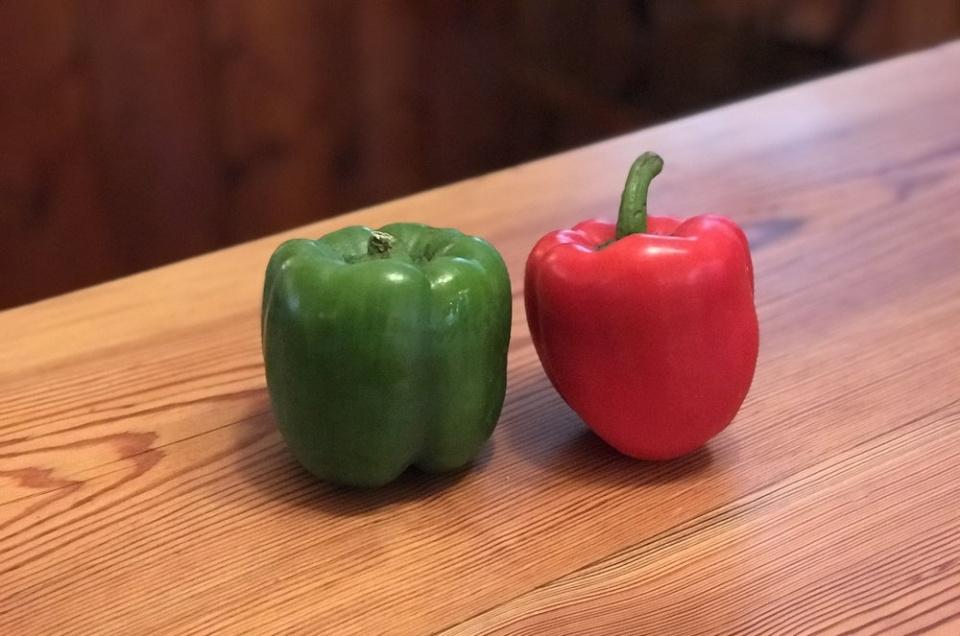fruit: (260, 218, 512, 493), (523, 212, 761, 465)
pedicle: (344, 235, 427, 265)
